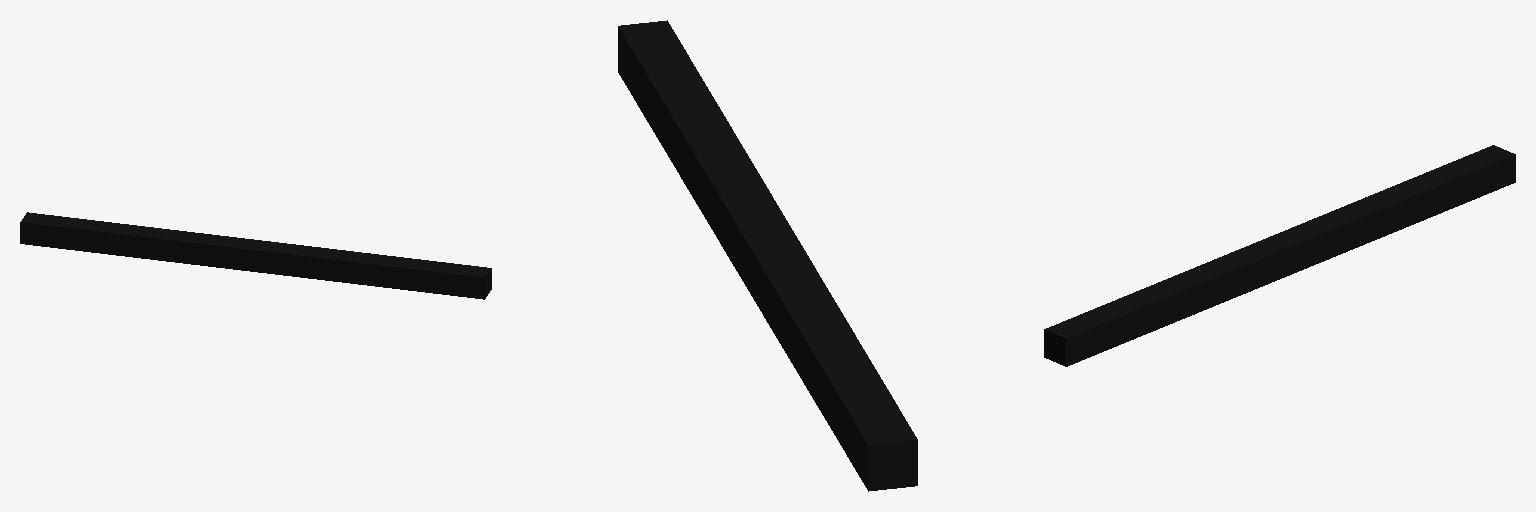
URDF robot description (box_Demo):
<?xml version="1.0"?>



<robot name="box_Demo">

    <gazebo reference="box">
        <turnGravityOff>False</turnGravityOff>
    </gazebo>

    <static>true</static>
        <link name="box">
            <visual>
            <material name="black_metal">
            <color rgba="0.1 0.1 0.1 1"/>
            </material>
    <geometry>
	    <box size="0.1 0.005 0.005" />
    </geometry>
    <origin rpy="0 0 -0.8" xyz="0.0068 -0.00904 0.00152"/>


    </visual>
    <inertial>
      <origin xyz = "0 0 0" rpy="0 0 0"/>
      <mass value = "1"/>
      <inertia
          ixx = "0.000004"
          ixy = "0"
          ixz = "0"
          iyy = "0"
          iyz = "0"
          izz = "0"
          />
    </inertial>

    <collision>
        <geometry>
            <box size="0.05 0.005 0.005" />
        </geometry>
        <origin rpy="0 0 0" xyz="-0.00680 -0.00904 0.00152"/>
    </collision>
  </link>
</robot>

--- Facts derived from the render (not from the file) ---
3 views of the same robot in one strip: view 1: azimuth 30°, elevation 25°; view 2: azimuth 150°, elevation 25°; view 3: azimuth 270°, elevation 25° (orthographic).
Model box_Demo with 1 links and 0 joints (none), rooted at box, posed every joint at zero.
Links seen in each view (by area): view 1: box; view 2: box; view 3: box.
Boxes of the visible links, x1,y1,x2,y2 form: box: (20,212,491,299); box: (618,20,917,491); box: (1044,145,1515,366).
Bounding box of the posed robot: 0.0733 × 0.0752 × 0.005 m (x, y, z).
Geometry: primitives only (box / cylinder / sphere), no mesh files.